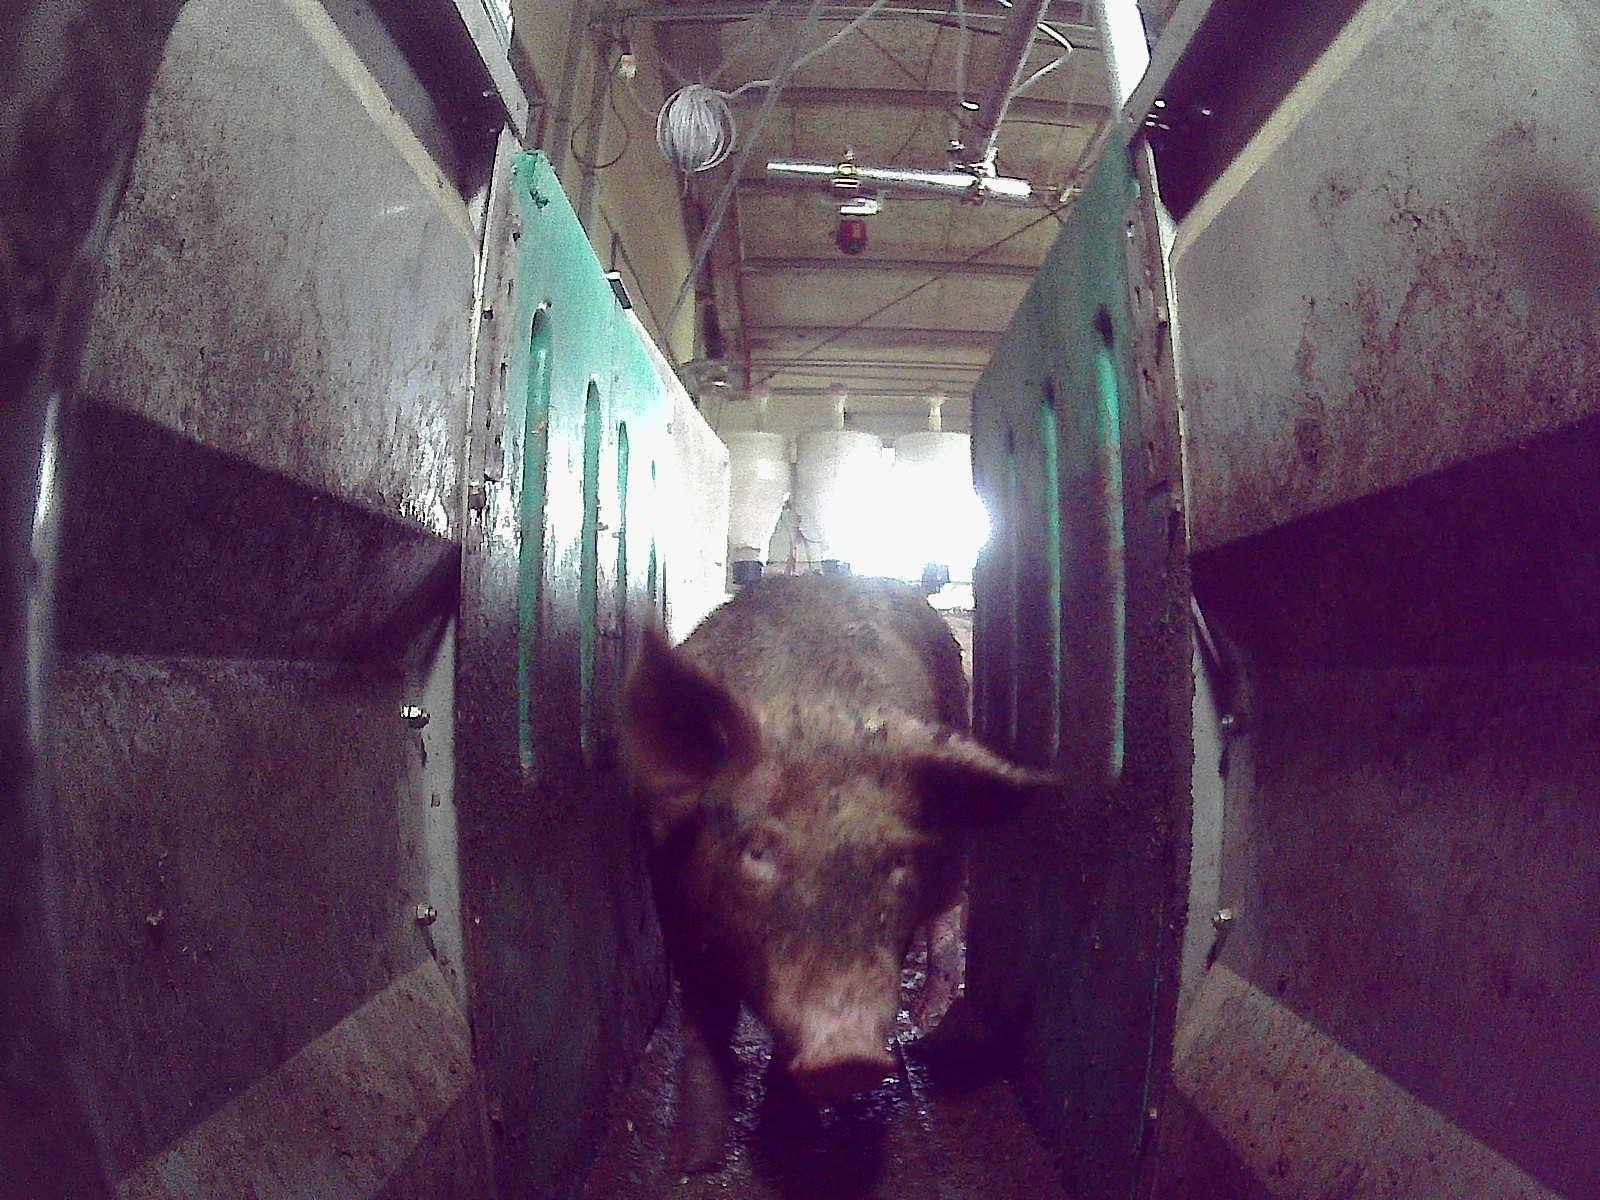Face: (699, 728, 918, 1097)
